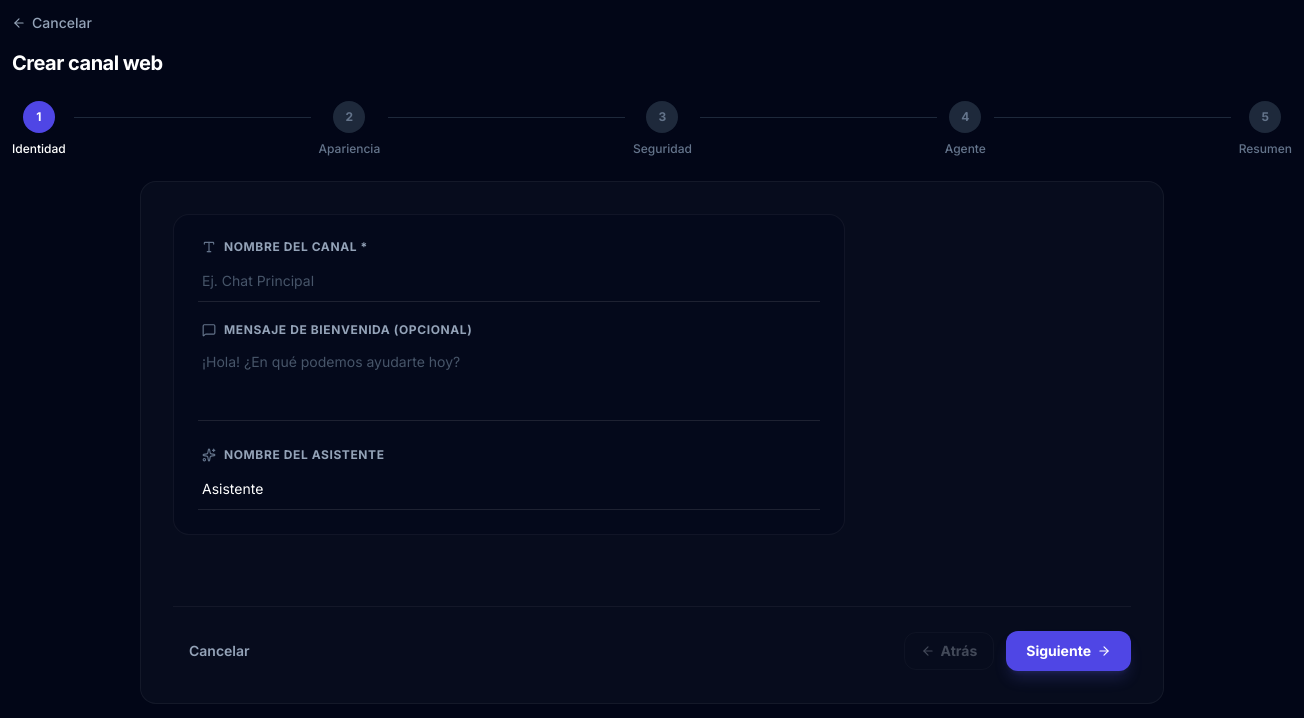
Test: WebChannelStepForm › shows the API error message and keeps the form when creation fails
In the field with test id "field-name": (509, 282) [198,261,820,302], type "Chat Principal"
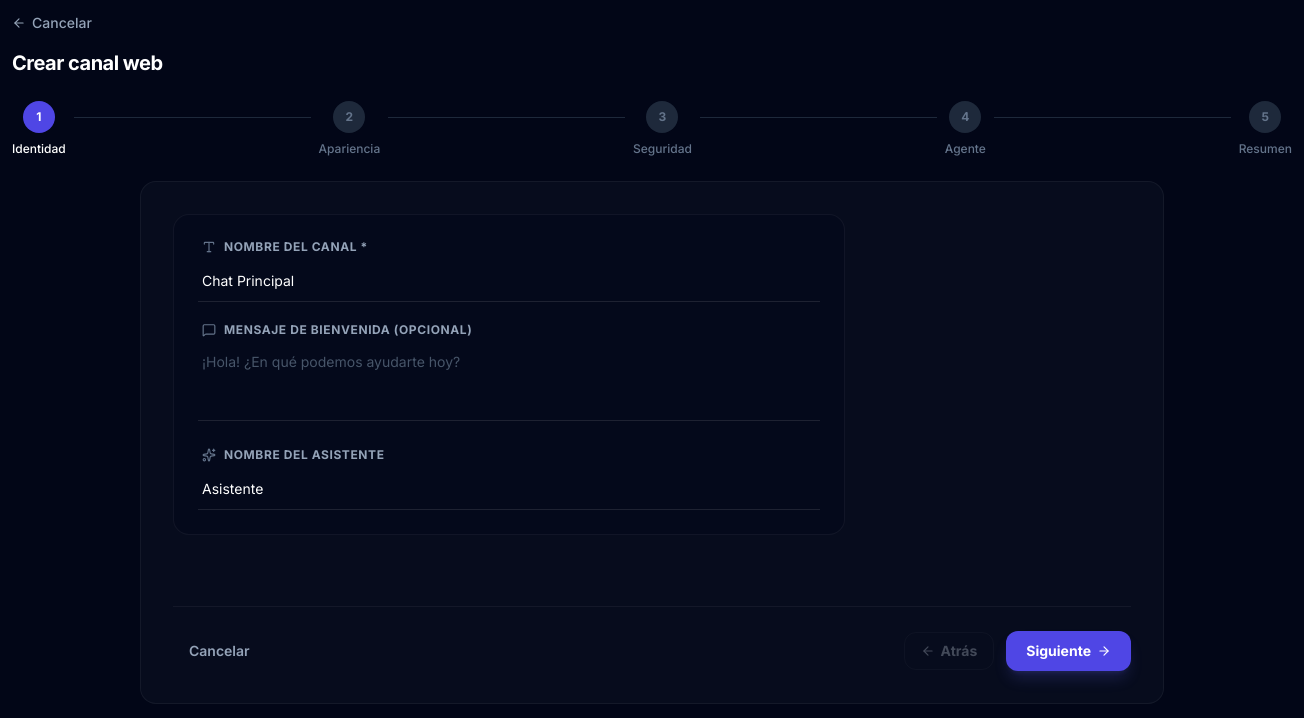
Click the button "Siguiente": (1069, 651) [1006,631,1131,671]
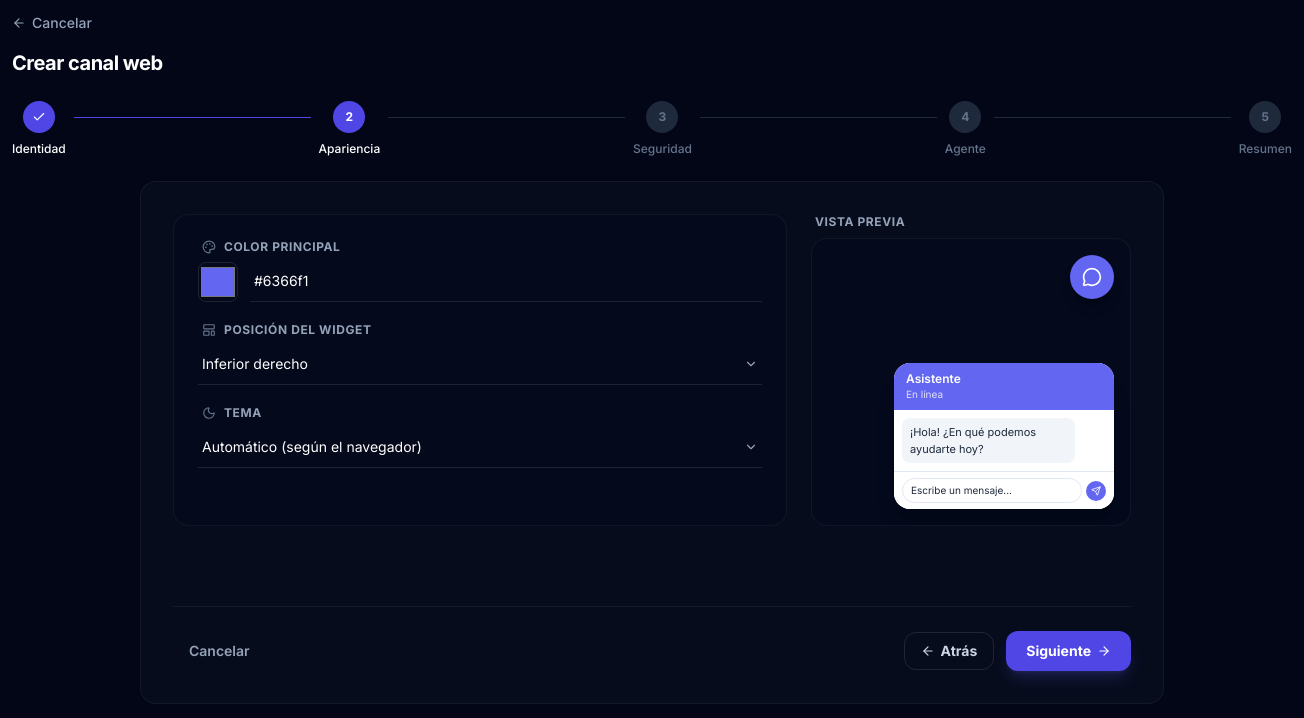
Check: the field with test id "field-primary-color" is shown, box [250,261,762,302]
Click the button "Siguiente": (1069, 651) [1006,631,1131,671]
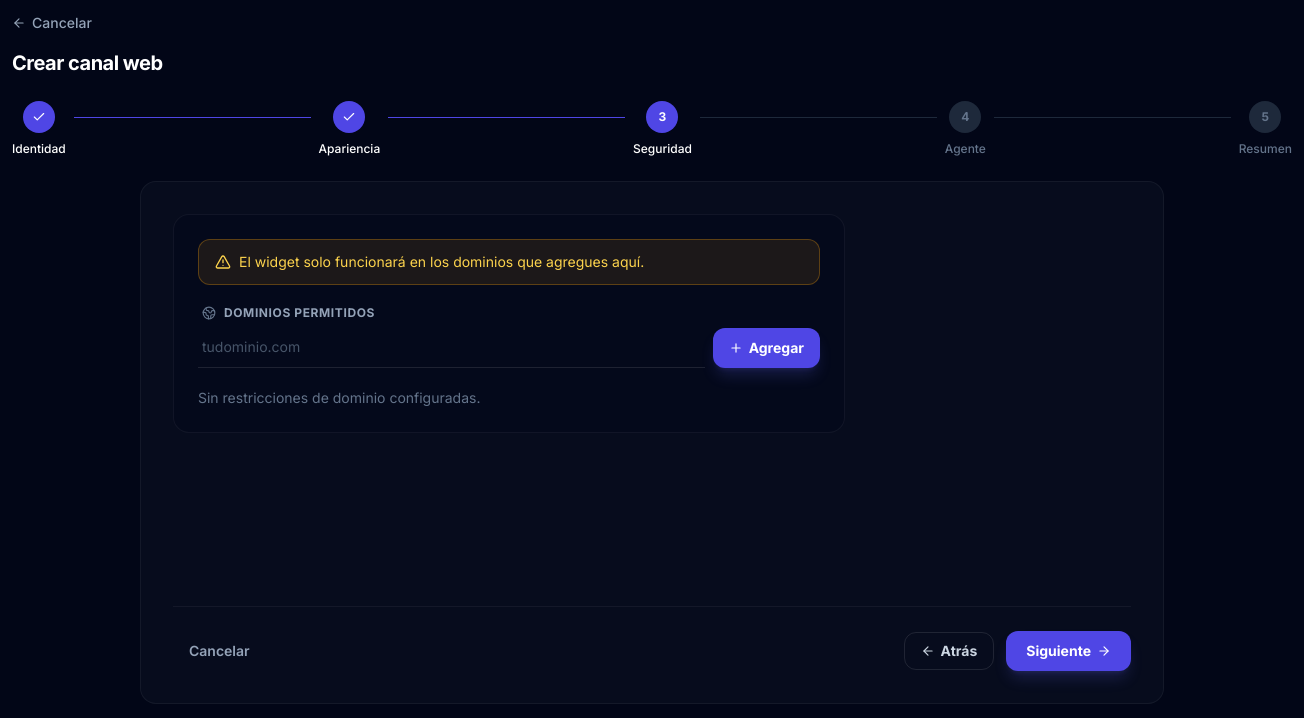
Check: the field with test id "field-domain-input" is shown, box [198,327,705,368]
Click the button "Siguiente": (1069, 651) [1006,631,1131,671]
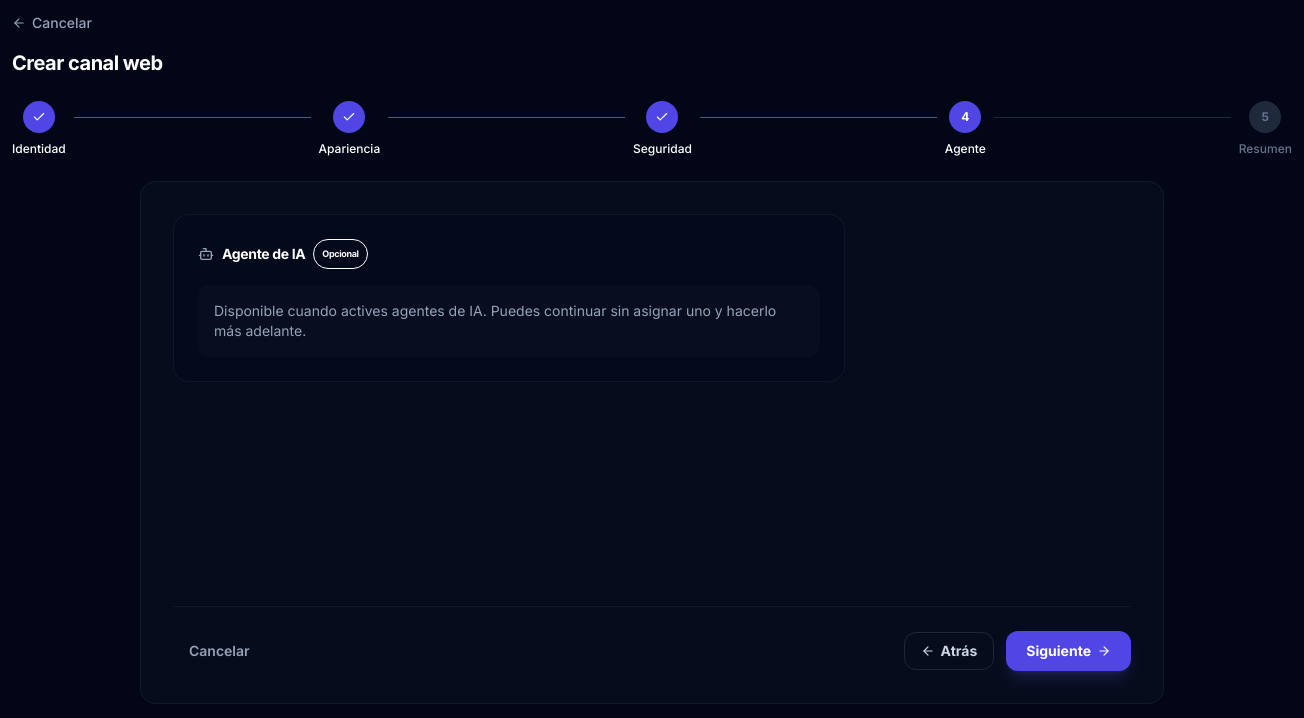
Check: the text with test id "agent-placeholder" is shown, box [198,285,820,357]
Click the button "Siguiente": (1069, 651) [1006,631,1131,671]
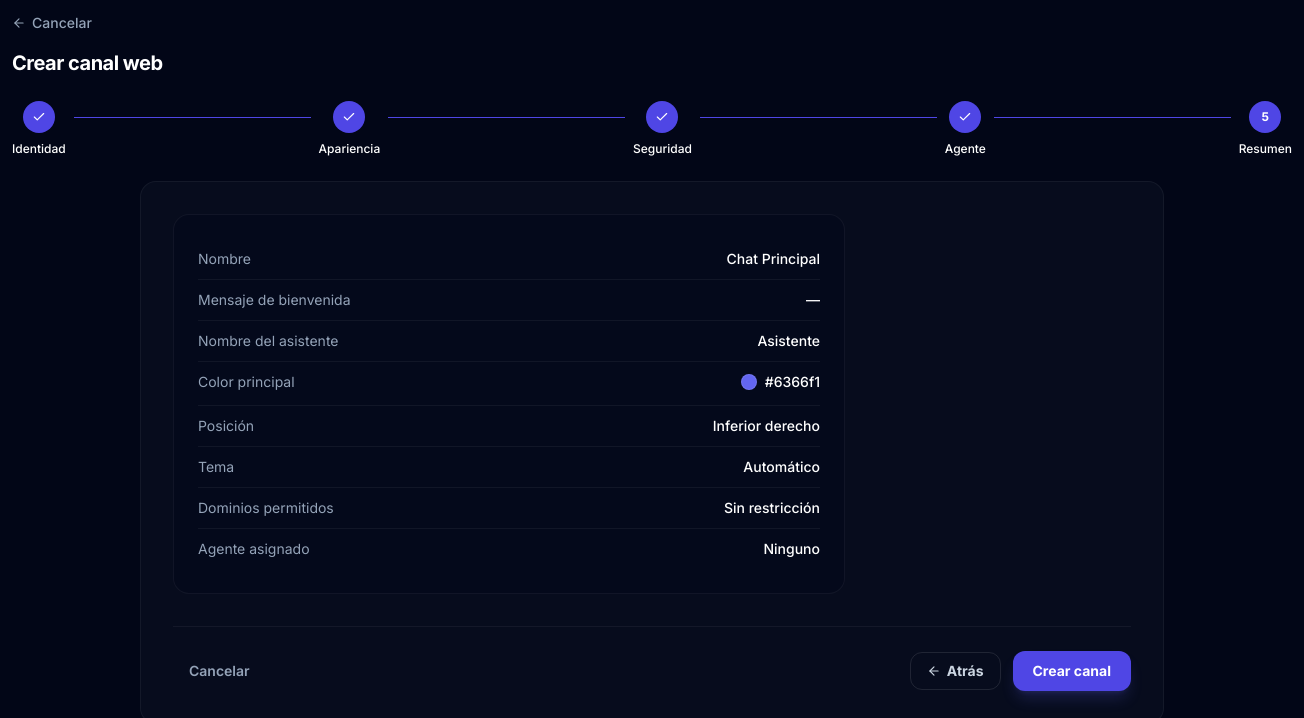
Check: the button with test id "submit-web-channel-form" is shown
Click the button with test id "submit-web-channel-form": (1072, 671) [1012,651,1131,691]
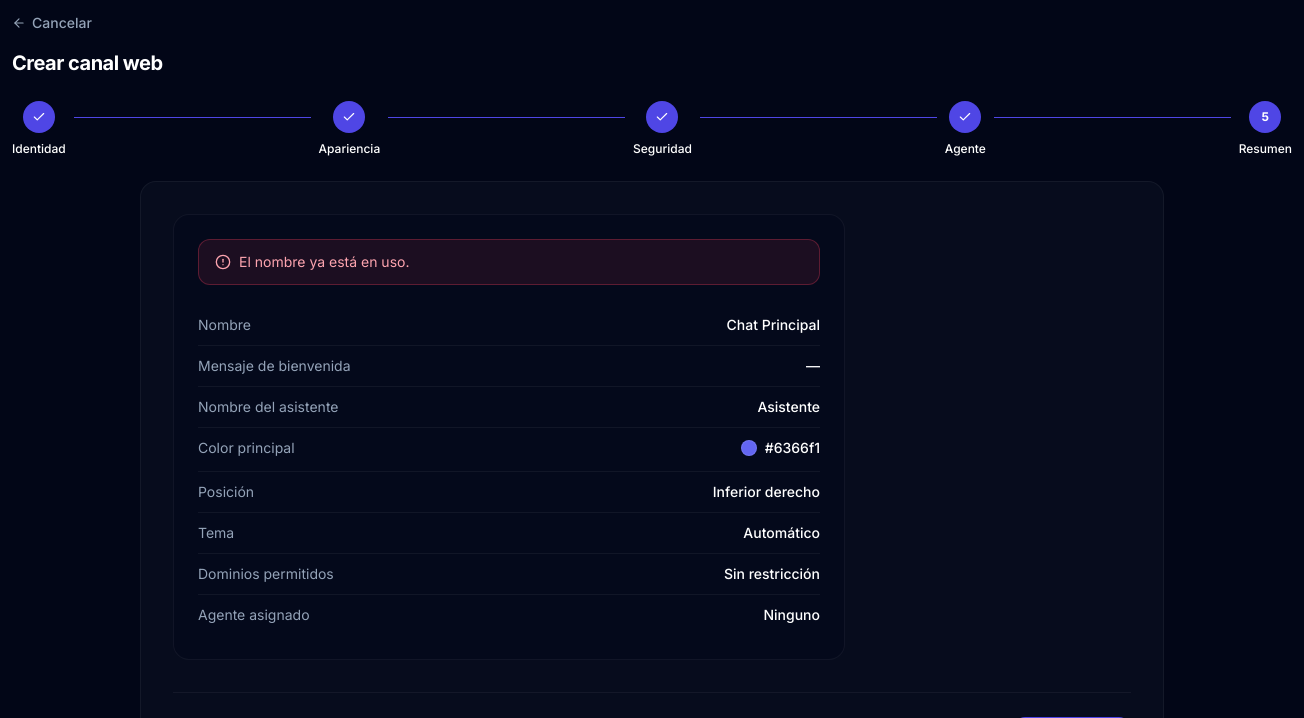
Check: the text "El nombre ya está en uso." is shown, box [239,252,410,272]
